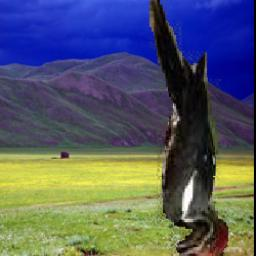Woodpecker: (151, 0, 229, 256)
